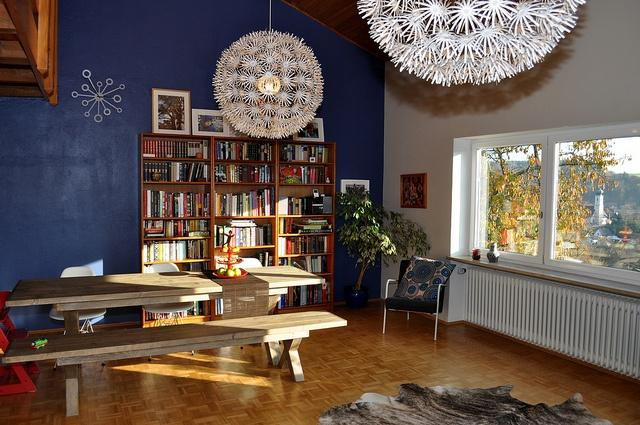Rak: (140, 131, 334, 268)
